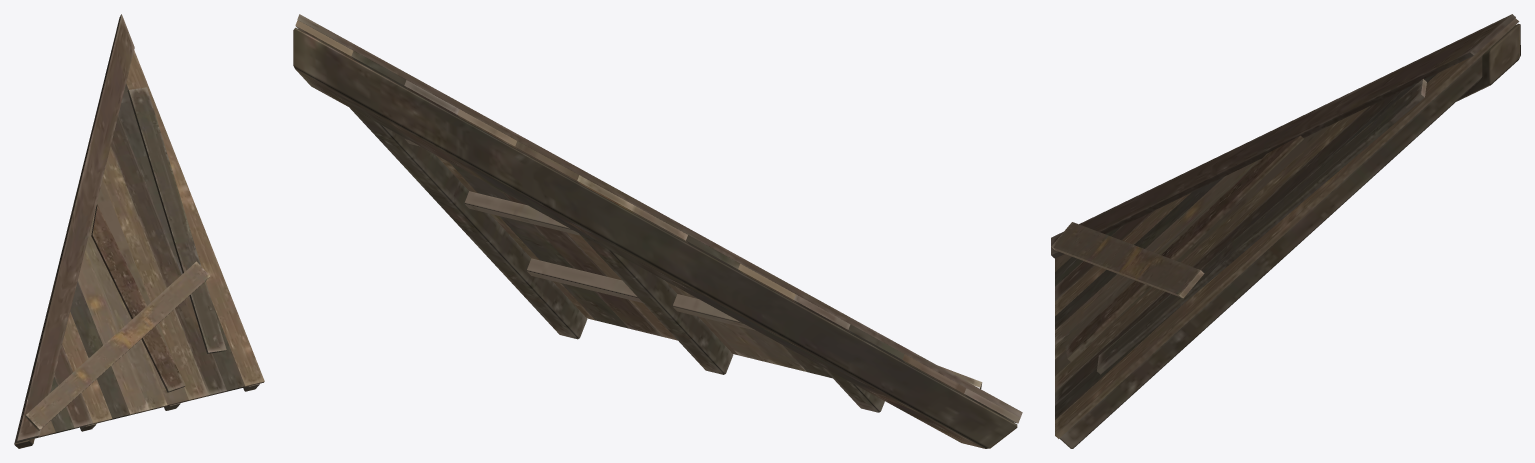
Rendered from roof.frontier.corner.90.convex.l.glb.
The picture shows the model from 3 angles, left to right: view 1: azimuth 30°, elevation 25°; view 2: azimuth 150°, elevation 25°; view 3: azimuth 270°, elevation 25°; orthographic projection. The views are drawn at different scales.
Parts seen in each view (by area): view 1: roof.corner.90.convex.L_LOD0; view 2: roof.corner.90.convex.L_LOD0; view 3: roof.corner.90.convex.L_LOD0.
Boxes of the visible parts, <box> form: roof.corner.90.convex.L_LOD0: <box>14,14,264,448</box>; roof.corner.90.convex.L_LOD0: <box>293,14,1022,448</box>; roof.corner.90.convex.L_LOD0: <box>1051,14,1520,448</box>.
Bounding box in the file's own units: 3.01 × 3.19 × 3.06.
Materials: 1 (1 with a texture image).
